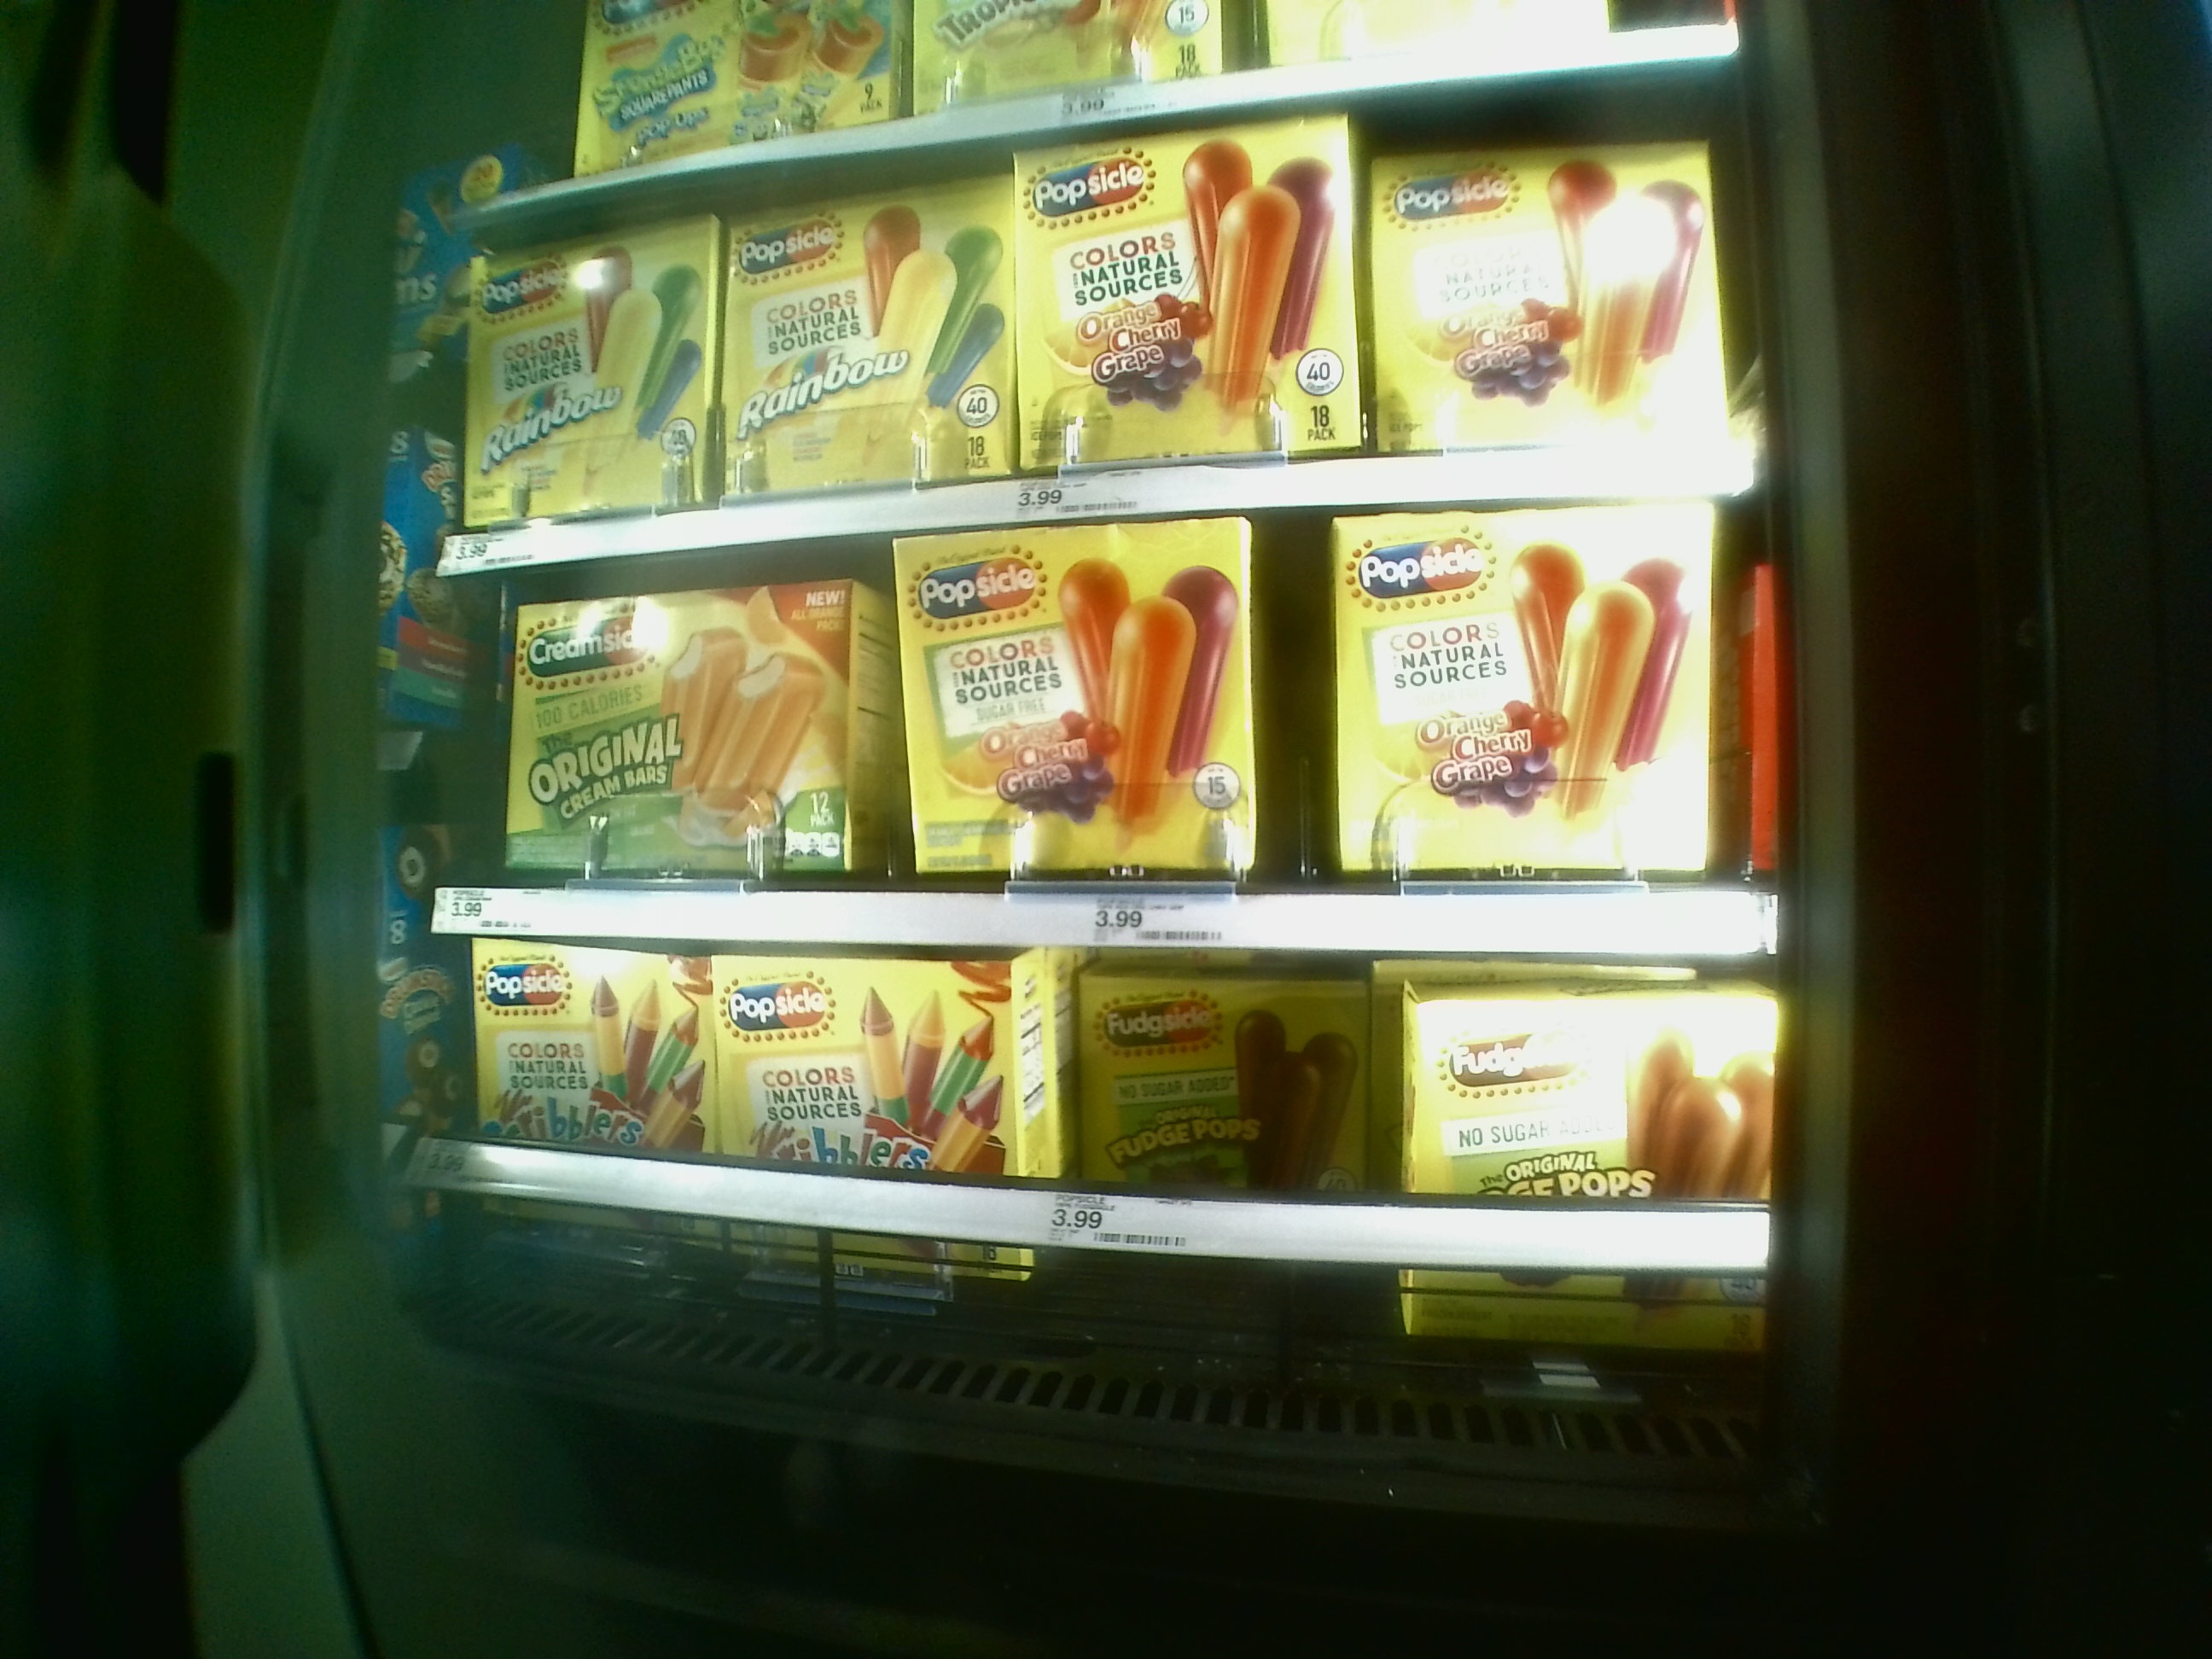shelf: (421, 941, 1797, 1356), (423, 525, 1773, 939)
